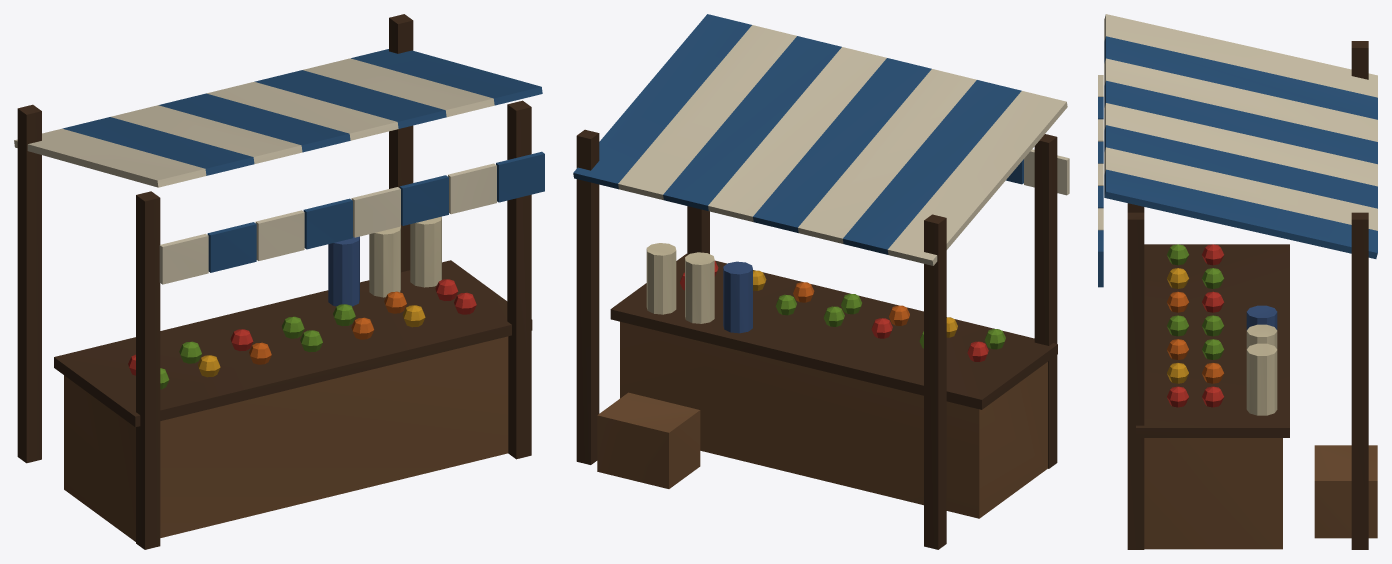
Rendered from stall-blue.glb.
3 views of the same model, side by side, from view 1: azimuth 30°, elevation 25°; view 2: azimuth 150°, elevation 25°; view 3: azimuth 270°, elevation 25° (orthographic). The views are drawn at different scales.
Visible parts, largest first — view 1: stall-blue; view 2: stall-blue; view 3: stall-blue.
Part boxes in pixels (x1,y1,x2,y2): stall-blue: (14,14,544,549); stall-blue: (573,14,1069,549); stall-blue: (1098,14,1377,549).
Size of the model in its own units: 3.1 by 2.82 by 2.
